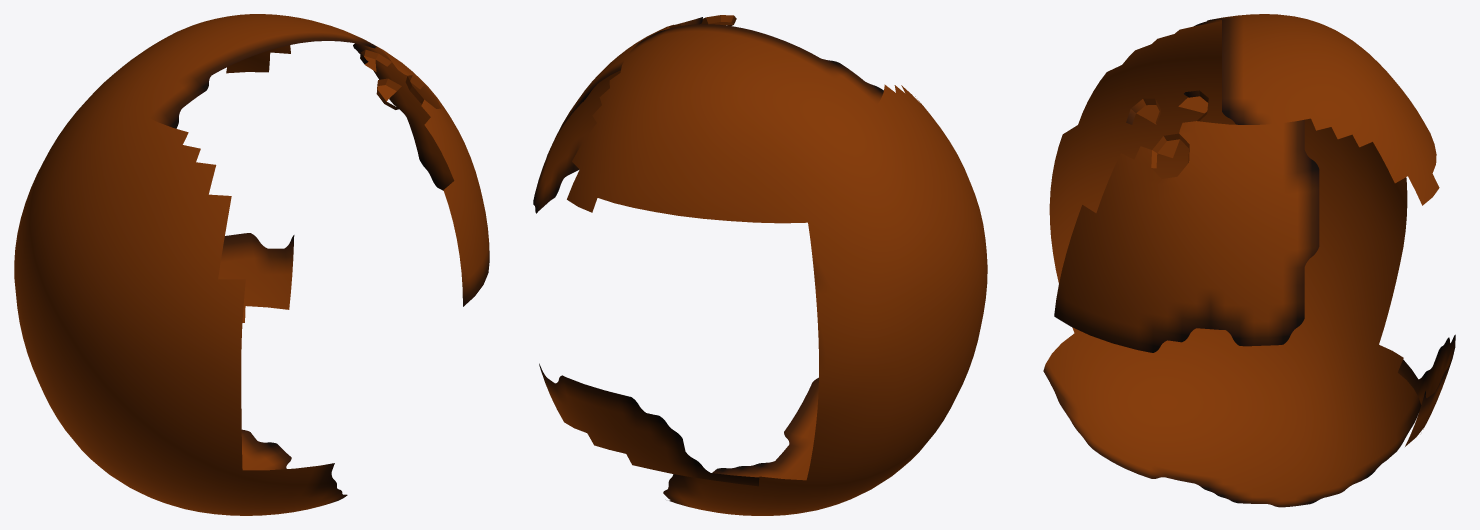
Rendered from Coconut.fbx.
3 renders of one model, left to right at view 1: azimuth 30°, elevation 25°; view 2: azimuth 150°, elevation 25°; view 3: azimuth 270°, elevation 25°, orthographic.
Parts seen in each view (by area): view 1: pSphere1; view 2: pSphere1; view 3: pSphere1.
Boxes of the visible parts, left/top/right/bottom form: pSphere1: left=14, top=14, right=489, bottom=515; pSphere1: left=533, top=15, right=987, bottom=515; pSphere1: left=1043, top=14, right=1455, bottom=507.
Bounding box in the file's own units: 1.99 × 2.08 × 1.87.
